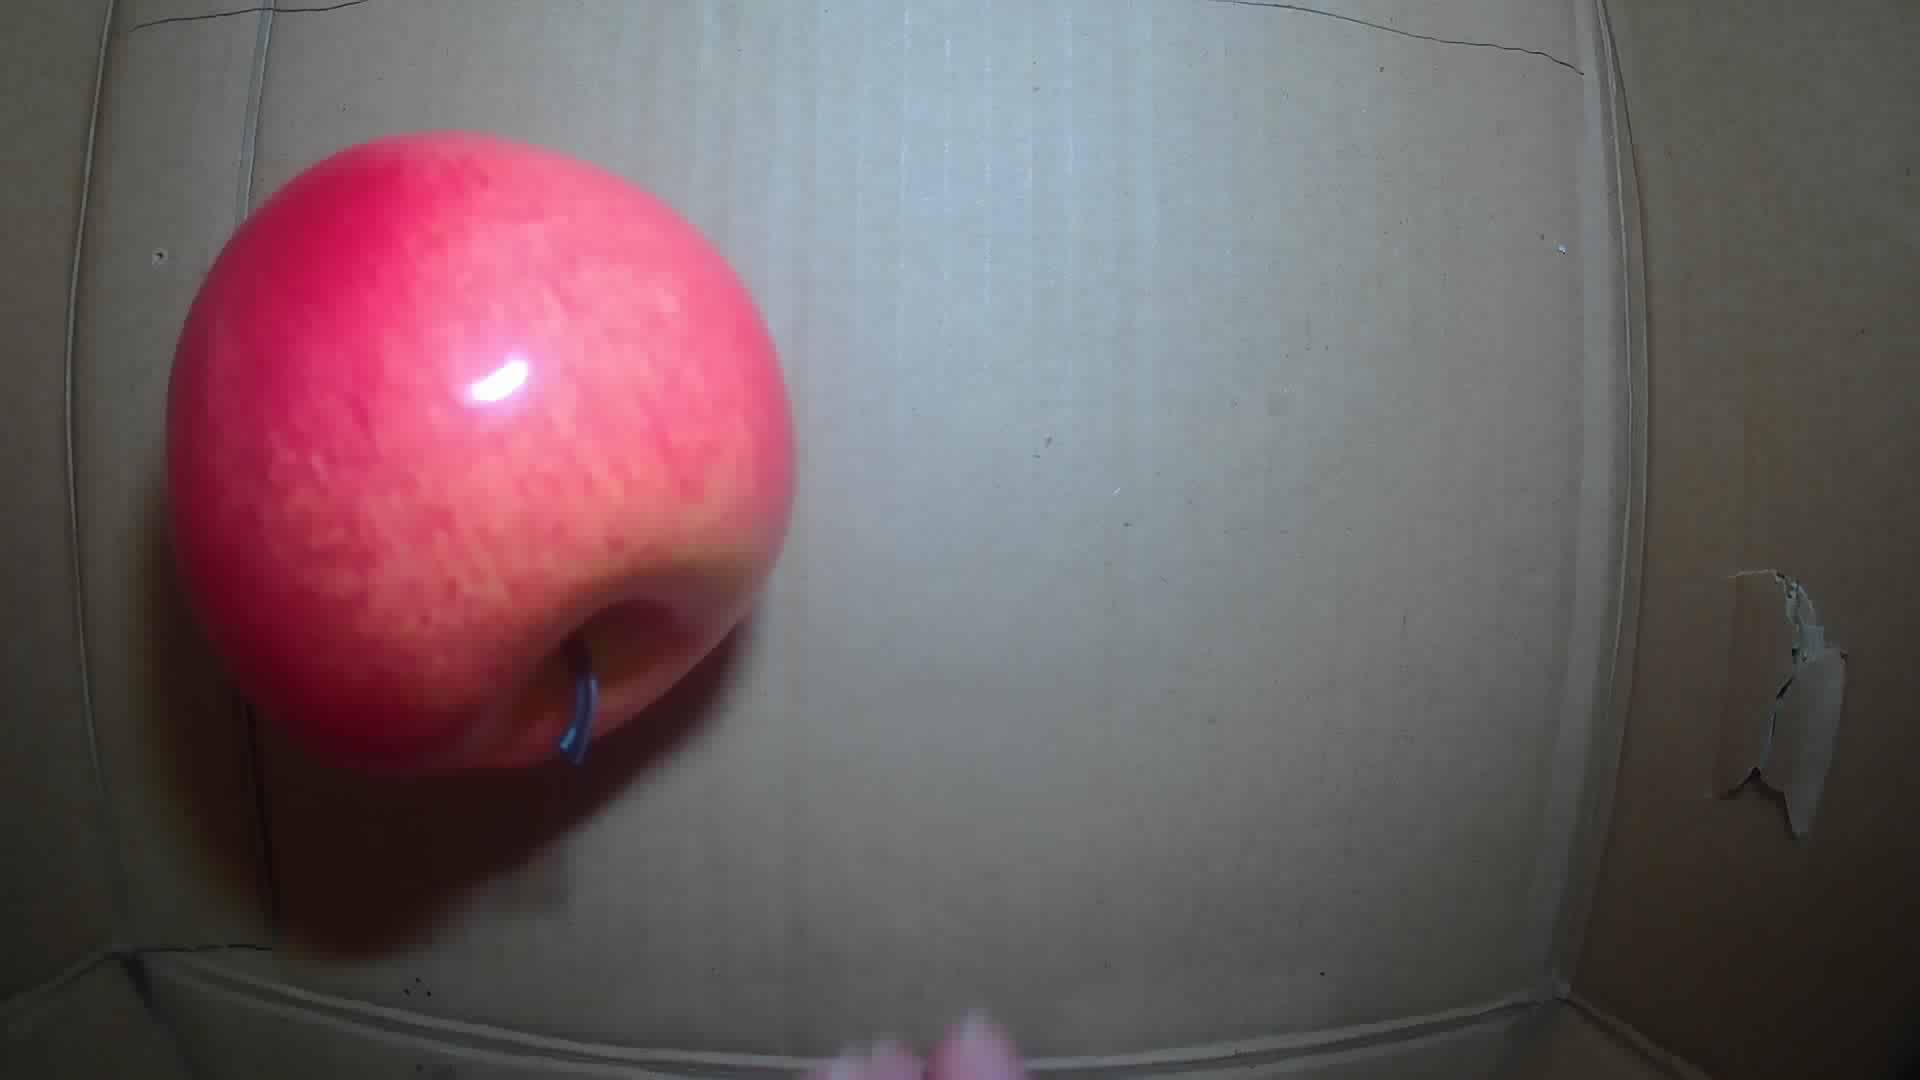apple: (162, 127, 800, 778)
